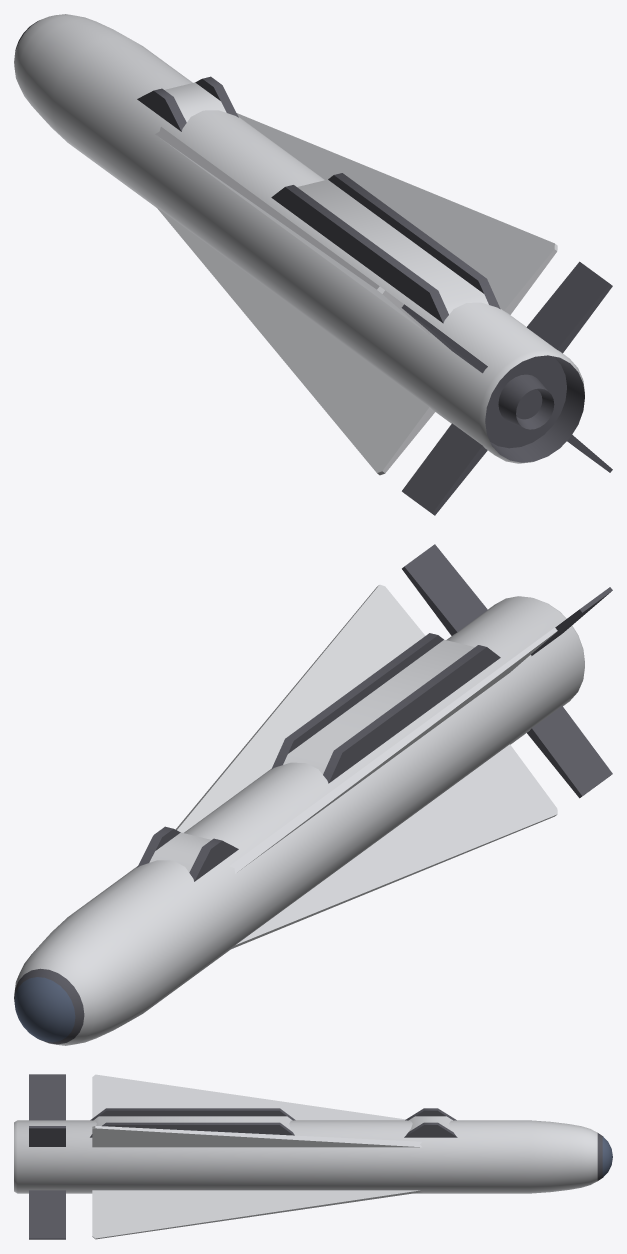
Rendered from missile_drop.glb.
3 views of the same model, one above another, from view 1: azimuth 30°, elevation 25°; view 2: azimuth 150°, elevation 25°; view 3: azimuth 270°, elevation 25° (orthographic). The views are drawn at different scales.
Visible parts, largest first — view 1: missile_drop; view 2: missile_drop; view 3: missile_drop.
Part boxes in pixels (left/top/right/bottom): missile_drop: left=14, top=14, right=612, bottom=515; missile_drop: left=14, top=544, right=612, bottom=1045; missile_drop: left=14, top=1074, right=612, bottom=1239.
Size of the model in its own units: 0.607 by 0.607 by 2.9.
